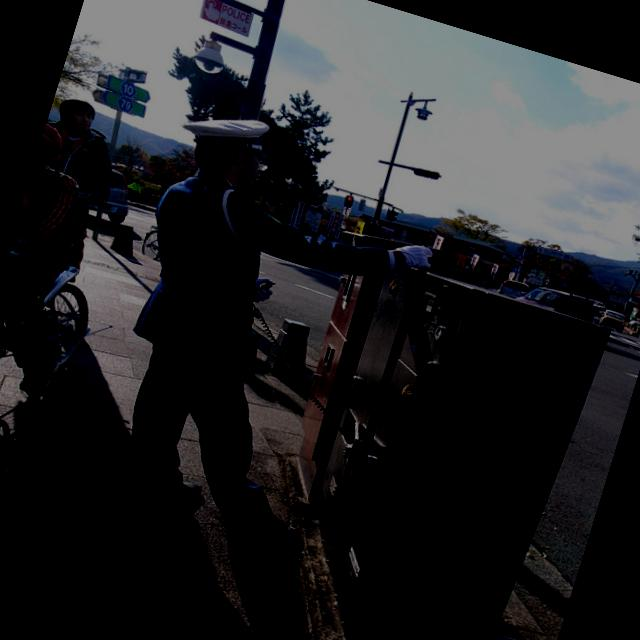Vehicle: (518, 277, 609, 328), (86, 164, 138, 226), (496, 276, 530, 302), (598, 308, 626, 333)
